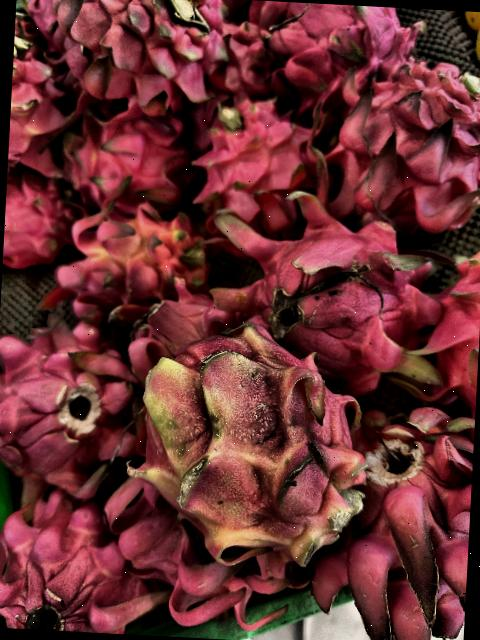buah-naga-belum-matang: (121, 324, 374, 564), (51, 205, 207, 308)
buah-naga-matang: (196, 192, 446, 394), (335, 412, 475, 640), (0, 310, 148, 495), (347, 47, 480, 240), (24, 0, 233, 114), (0, 487, 160, 635), (188, 96, 329, 226), (260, 1, 411, 108), (60, 106, 192, 212), (422, 236, 480, 404), (8, 53, 74, 182), (3, 172, 65, 264)
